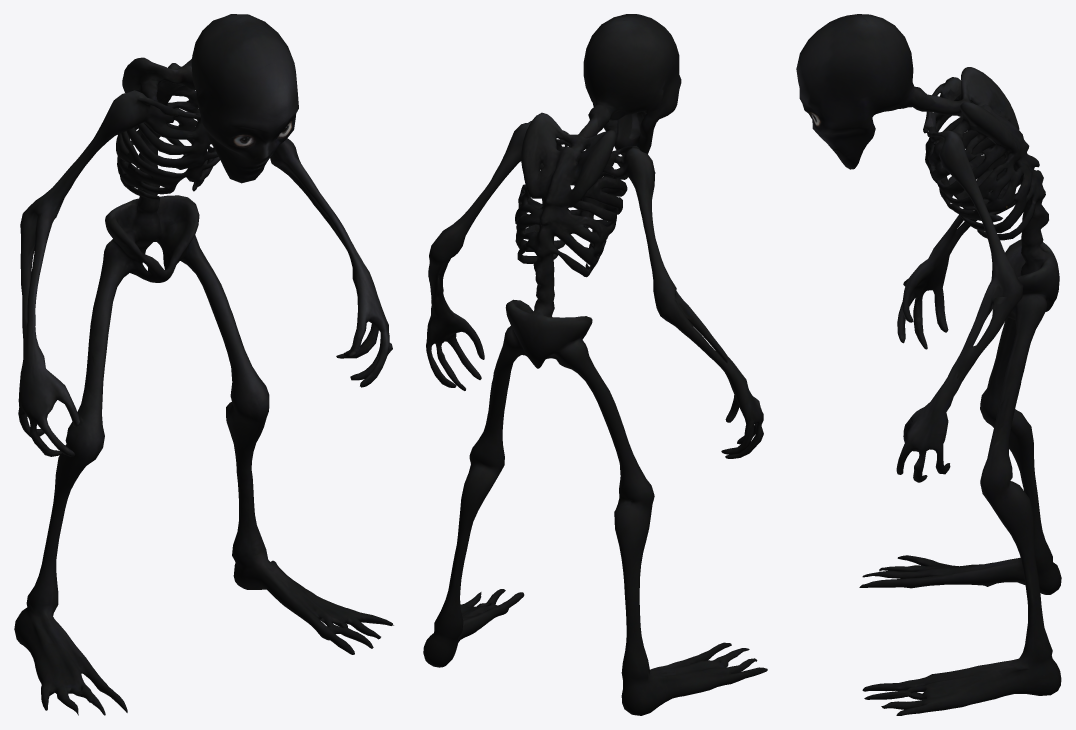
Rendered from small_Shadow_black_fi_0514154337_texture.fbx.
3 views of the same model, side by side, from view 1: azimuth 30°, elevation 25°; view 2: azimuth 150°, elevation 25°; view 3: azimuth 270°, elevation 25° (orthographic). The views are drawn at different scales.
Parts seen in each view (by area): view 1: Mesh_0; view 2: Mesh_0; view 3: Mesh_0.
Part boxes in pixels (x1=…): Mesh_0: x1=14, y1=14, x2=393, y2=715; Mesh_0: x1=423, y1=14, x2=767, y2=715; Mesh_0: x1=796, y1=14, x2=1061, y2=715.
Size of the model in its own units: 113 by 200 by 76.84.
Materials: 1 (1 with a texture image).
